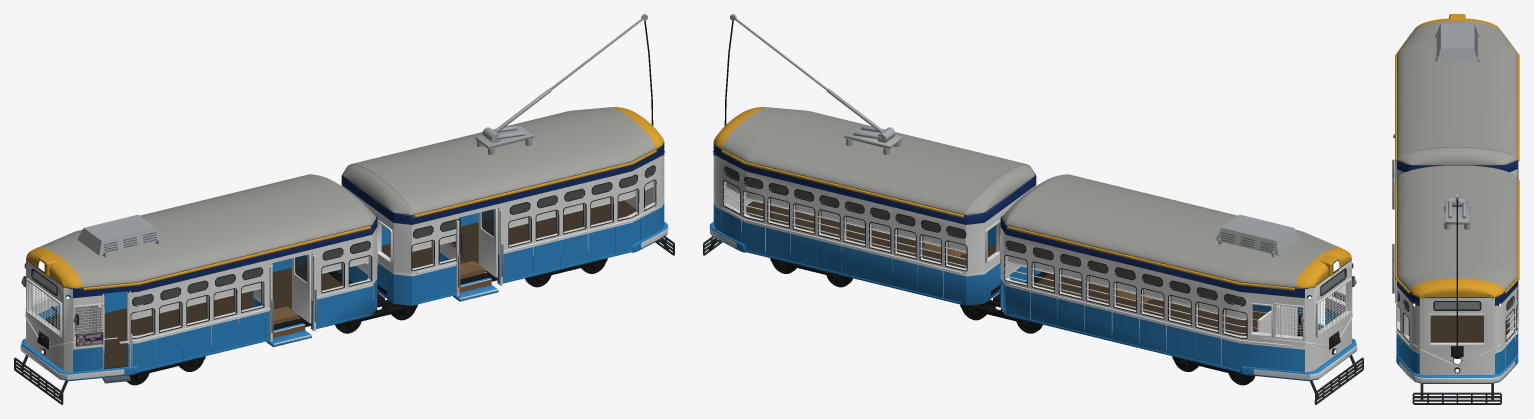
The model's file is TRAM_V3.glb.
3 renders of one model, left to right at view 1: azimuth 30°, elevation 25°; view 2: azimuth 150°, elevation 25°; view 3: azimuth 270°, elevation 25°, orthographic. The views are drawn at different scales.
Parts seen in each view (by area): view 1: TramV3, TramV3_textured; view 2: TramV3, TramV3_textured; view 3: TramV3_textured, TramV3.
Boxes of the visible parts, <box> form: TramV3: <box>14,14,674,404</box>; TramV3_textured: <box>38,107,657,346</box>; TramV3: <box>703,14,1363,404</box>; TramV3_textured: <box>720,107,1339,288</box>; TramV3_textured: <box>1397,21,1517,290</box>; TramV3: <box>1392,14,1519,404</box>.
Bounding box in the file's own units: 15.8 × 5.71 × 3.05.
Materials: 26 (2 with a texture image).
